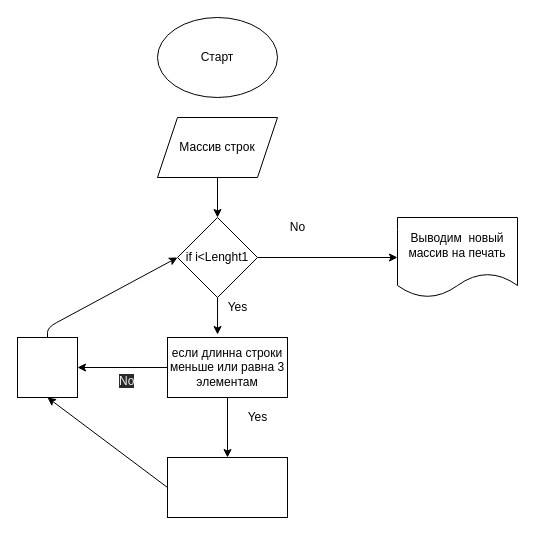
The diagram is 535 pixels wide and 535 high, and some of its shapes have lost their labels. Each missing label, with the centre of its shape:
"i+1" goes at point 47,367.
"Добавляем строку в новый массив" goes at point 227,487.
